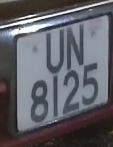1: (49, 74, 63, 121)
2: (59, 69, 82, 115)
5: (80, 59, 100, 107)
8: (26, 75, 51, 126)
N: (66, 22, 86, 71)
U: (44, 28, 66, 75)
